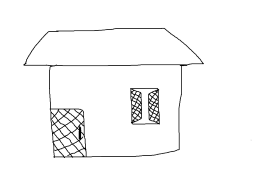door: (47, 103, 91, 161)
open_window: (126, 82, 164, 129)
roof: (18, 24, 207, 69)
wall: (47, 61, 185, 158)
